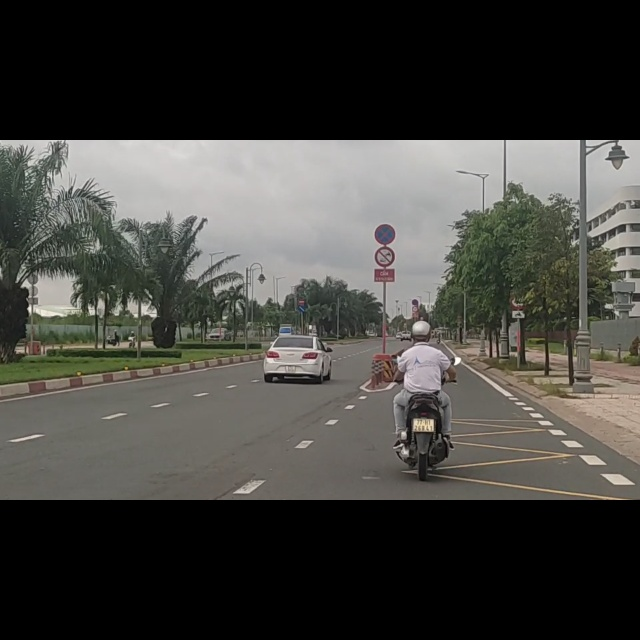bien_hieu_lenh: (373, 146, 396, 186), (373, 187, 395, 228)
